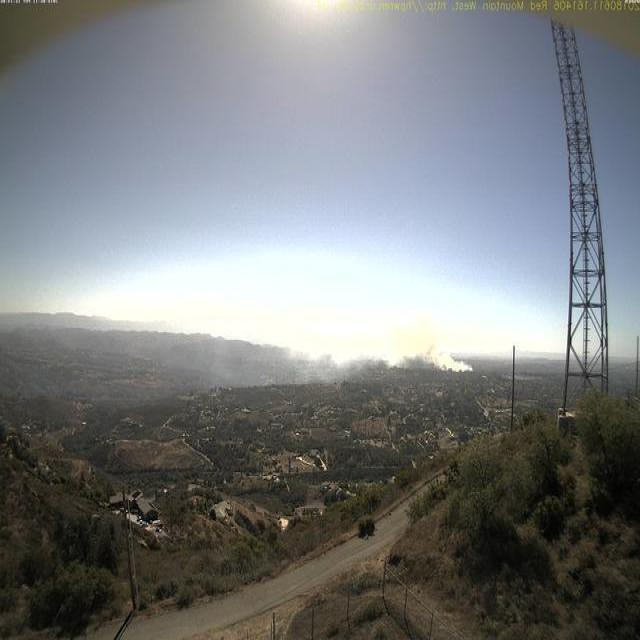Smoke: (275, 323, 474, 381)
